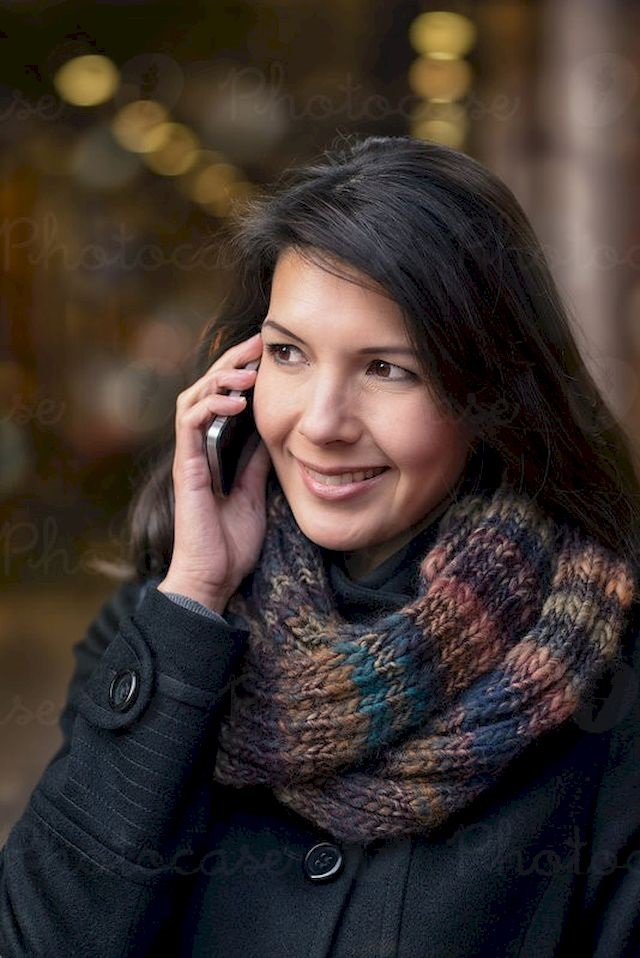phone: (202, 357, 274, 539)
talk: (164, 307, 457, 607)
